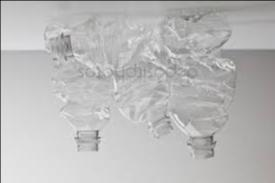Plastic: (159, 9, 236, 164), (41, 9, 233, 70), (105, 13, 177, 138), (46, 19, 111, 156)
